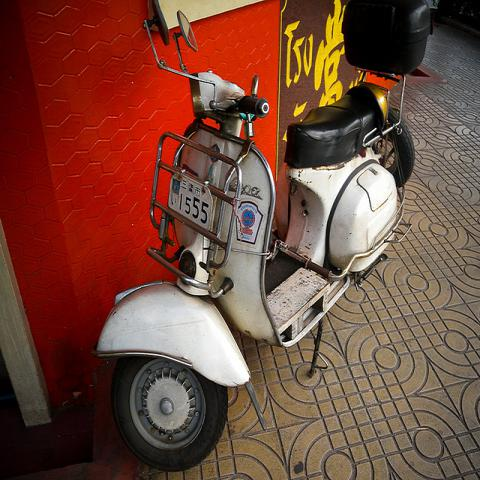motorcycle: (89, 1, 436, 464)
